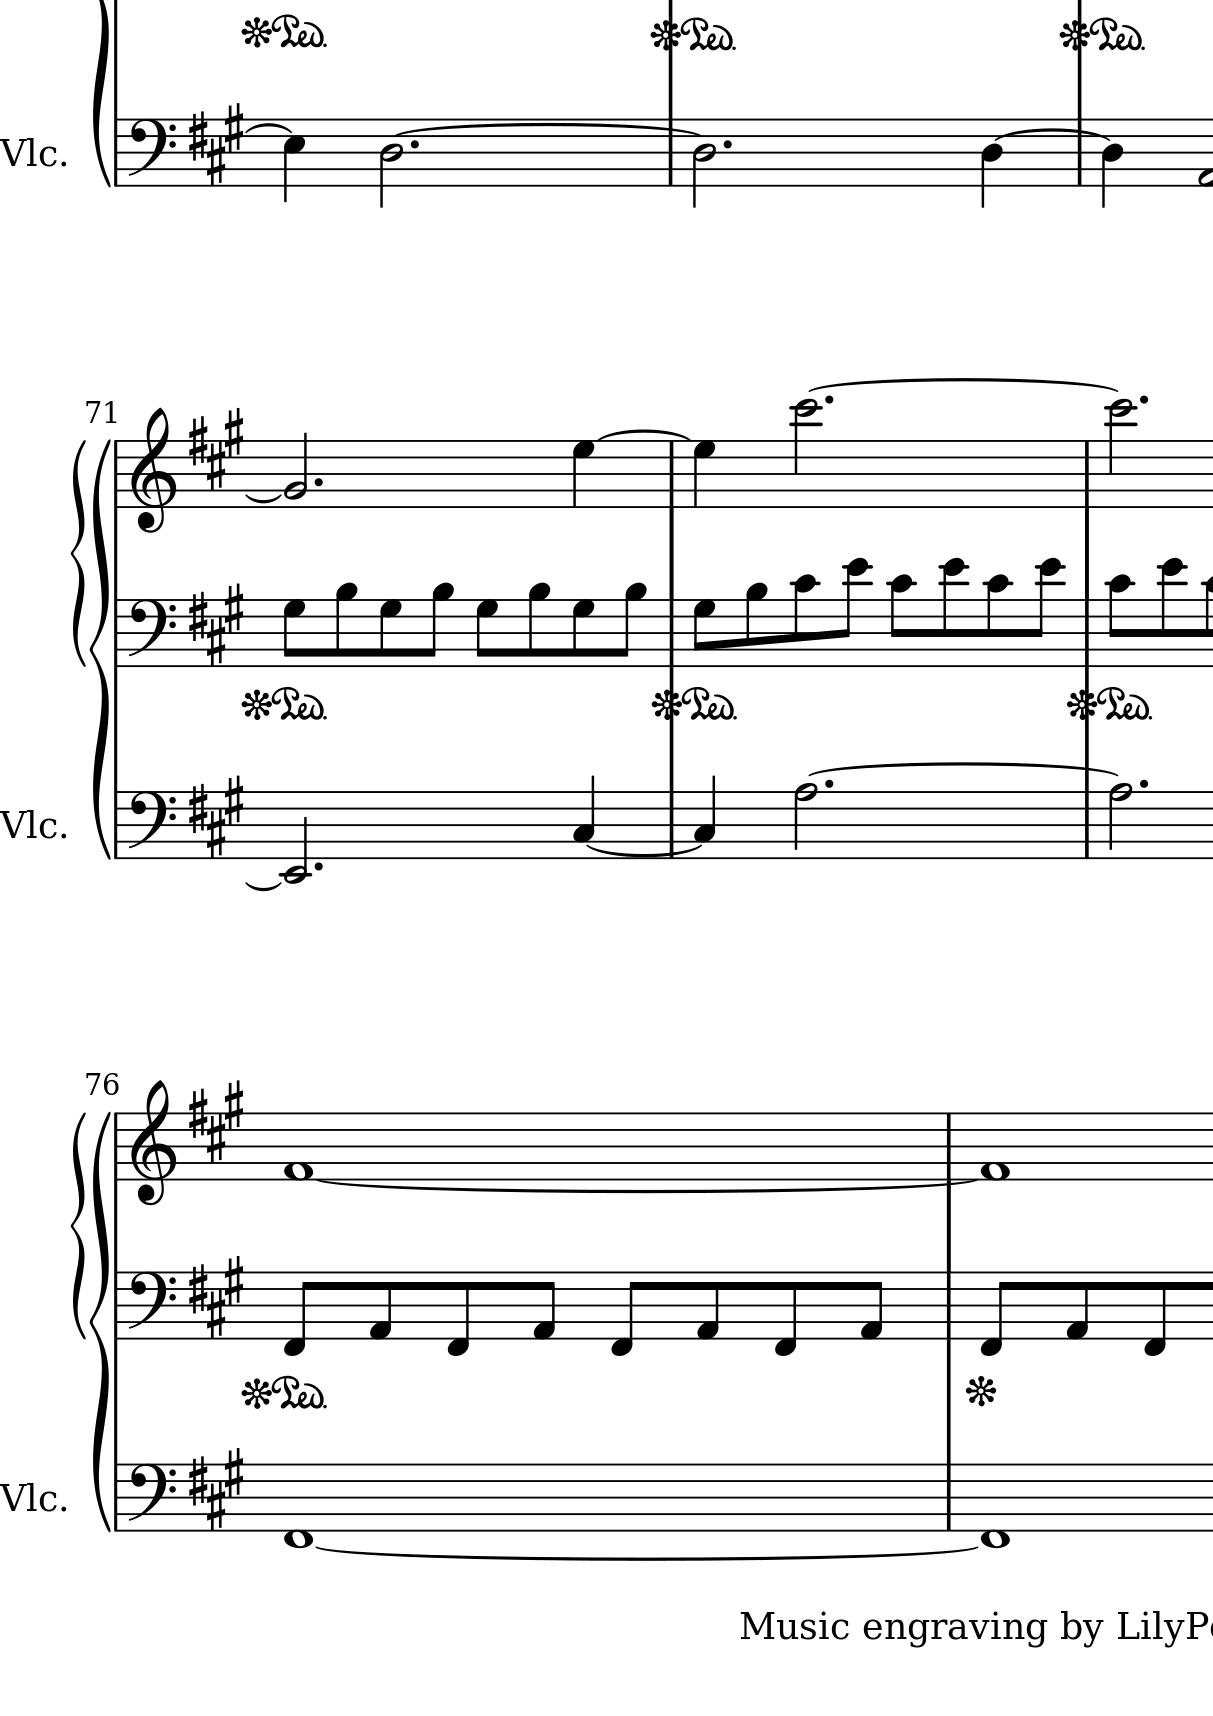1: (102, 399, 118, 427)
1_-1: (282, 1461, 312, 1552), (979, 1463, 1010, 1552)
1_1: (280, 1107, 314, 1187), (977, 1108, 1011, 1186)
2_-2: (280, 789, 309, 885)
2_12: (1105, 397, 1136, 511), (792, 397, 820, 511)
2_2: (281, 431, 309, 509)
2_4: (377, 118, 403, 209), (691, 118, 715, 209)
2_8: (1105, 781, 1134, 863), (792, 781, 818, 861)
4_3: (570, 775, 595, 860), (692, 775, 715, 860)
4_4: (1099, 118, 1125, 211), (979, 118, 1003, 210)
4_5: (282, 118, 307, 205)
4_7: (570, 439, 596, 509), (691, 439, 715, 509)
6: (100, 1070, 119, 1098)
7: (84, 397, 101, 427), (84, 1070, 100, 1098)
8_-1: (975, 1270, 1012, 1359), (280, 1270, 315, 1359), (606, 1270, 642, 1359), (771, 1270, 799, 1360), (442, 1270, 471, 1359), (1139, 1270, 1168, 1359)
8_1: (693, 1270, 721, 1342), (856, 1270, 883, 1342), (366, 1270, 393, 1342), (530, 1270, 557, 1342), (1063, 1270, 1090, 1342)
8_10: (985, 572, 1016, 667), (1105, 572, 1137, 667), (887, 574, 918, 668), (790, 572, 818, 670)
8_12: (836, 555, 870, 670), (1033, 558, 1065, 668), (939, 555, 968, 670), (1160, 557, 1185, 670)
8_7: (280, 597, 306, 670), (691, 596, 717, 668), (377, 597, 403, 668), (570, 597, 596, 668), (474, 597, 499, 670)
8_9: (612, 582, 649, 670), (420, 582, 456, 670), (333, 582, 358, 670), (526, 582, 551, 670), (744, 582, 768, 670)
A_S: (184, 1081, 247, 1163), (184, 1256, 247, 1339), (184, 104, 245, 186), (185, 582, 245, 666), (185, 408, 245, 491), (185, 775, 245, 857), (185, 1449, 245, 1531)
Brace: (91, 1112, 110, 1534), (92, 436, 110, 859), (70, 1112, 93, 1342), (70, 436, 92, 667)
Fclef: (125, 790, 177, 863), (126, 116, 177, 189), (126, 597, 177, 670), (126, 1461, 177, 1534), (126, 1270, 177, 1341)
Gclef: (129, 404, 177, 534), (129, 1078, 177, 1207)
Single_barline: (939, 1274, 960, 1339), (662, 599, 681, 668), (1078, 599, 1097, 667), (662, 119, 681, 186), (663, 441, 683, 508), (1078, 792, 1097, 859), (939, 1464, 958, 1530), (939, 1113, 958, 1178), (1071, 118, 1090, 186), (1078, 441, 1096, 508), (662, 792, 680, 859), (110, 1464, 125, 1532), (112, 599, 125, 668), (112, 1271, 125, 1341), (110, 1113, 123, 1182), (110, 119, 123, 186), (110, 441, 123, 508), (110, 792, 123, 859)
Slur: (314, 1544, 978, 1564), (314, 1179, 964, 1196), (809, 761, 1117, 779), (807, 378, 1118, 393), (600, 429, 688, 442), (245, 122, 291, 137), (242, 878, 282, 891), (242, 492, 282, 503)
Vlc: (1, 804, 56, 847), (1, 1477, 56, 1520), (1, 133, 58, 175)
dot: (1136, 776, 1151, 792), (719, 137, 734, 152), (822, 393, 836, 408), (311, 859, 326, 874), (311, 474, 326, 488), (1137, 393, 1150, 408), (822, 779, 835, 792), (408, 138, 420, 152)
